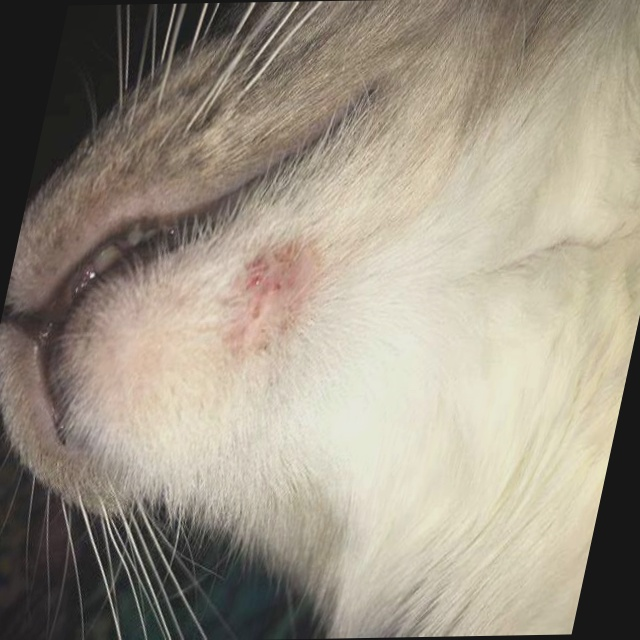acne: (217, 238, 325, 338)
